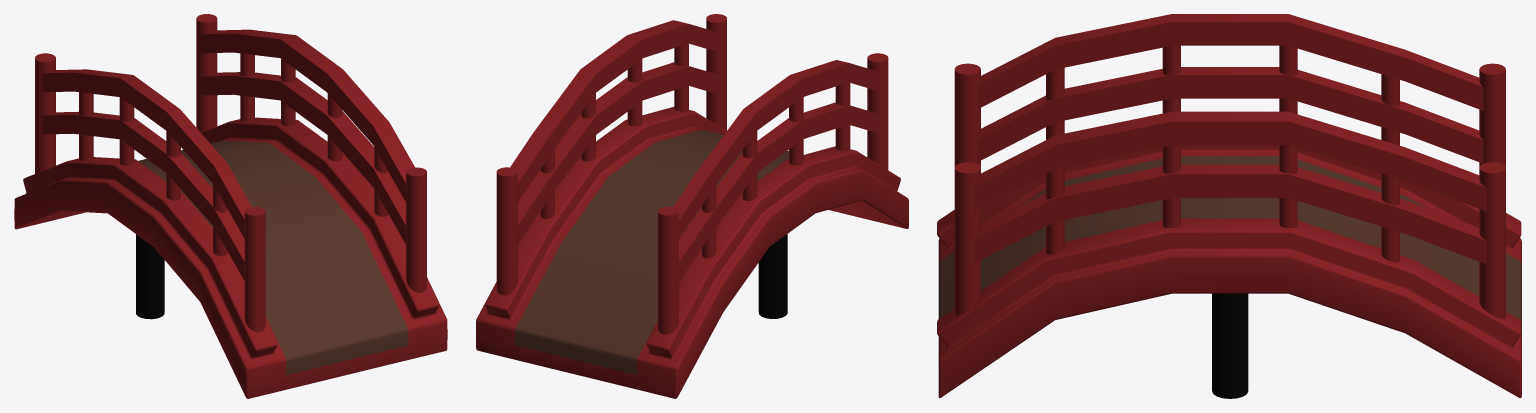
The model's file is Bridge1.fbx.
3 renders of one model, left to right at view 1: azimuth 30°, elevation 25°; view 2: azimuth 150°, elevation 25°; view 3: azimuth 270°, elevation 25°, orthographic. The views are drawn at different scales.
Visible parts, largest first — view 1: Cube, Cube.002, Cube.001, Cube.003, Cube.004, Cylinder.003, Cylinder.004, Cylinder.007, Cylinder.005, Cylinder.006, Cylinder.011, Cylinder.016 (+6 smaller); view 2: Cube, Cube.002, Cube.001, Cube.003, Cube.004, Cylinder.006, Cylinder.005, Cylinder.007, Cylinder.003, Cylinder.004, Cylinder.012, Cylinder.013 (+6 smaller); view 3: Cube, Cube.002, Cube.003, Cube.001, Cube.004, Cylinder.009, Cylinder.006, Cylinder.004, Cylinder.003, Cylinder.005, Cylinder.016, Cylinder.013 (+6 smaller).
Boxes of the visible parts, x1,y1,x2,y2 form: Cube: [14, 117, 447, 398]; Cube.002: [201, 29, 414, 201]; Cube.001: [42, 69, 251, 238]; Cube.003: [201, 72, 405, 243]; Cube.004: [42, 111, 244, 280]; Cylinder.003: [244, 207, 265, 332]; Cylinder.004: [406, 167, 426, 292]; Cylinder.007: [136, 234, 164, 319]; Cylinder.005: [35, 53, 55, 173]; Cylinder.006: [196, 14, 217, 132]; Cylinder.011: [79, 92, 93, 160]; Cylinder.016: [240, 53, 254, 121]; Cube: [476, 106, 908, 398]; Cube.002: [510, 20, 722, 202]; Cube.001: [673, 60, 880, 239]; Cube.003: [517, 62, 722, 244]; Cube.004: [678, 102, 880, 281]; Cylinder.006: [496, 167, 517, 295]; Cylinder.005: [658, 206, 678, 334]; Cylinder.007: [758, 234, 787, 318]; Cylinder.003: [867, 53, 888, 169]; Cylinder.004: [706, 14, 726, 130]; Cylinder.012: [835, 82, 850, 150]; Cylinder.013: [674, 43, 688, 111]; Cube: [937, 145, 1521, 398]; Cube.002: [973, 111, 1486, 211]; Cube.003: [973, 164, 1486, 264]; Cube.001: [977, 14, 1483, 110]; Cube.004: [977, 67, 1483, 163]; Cylinder.009: [1212, 293, 1248, 398]; Cylinder.006: [1479, 162, 1505, 318]; Cylinder.004: [954, 162, 980, 315]; Cylinder.003: [954, 63, 980, 166]; Cylinder.005: [1479, 63, 1505, 167]; Cylinder.016: [1381, 173, 1399, 262]; Cylinder.013: [1046, 167, 1064, 254].
Size of the model in its own units: 200 by 208 by 401.
